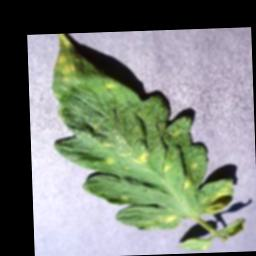Leaf_Mold: (47, 33, 101, 101), (128, 147, 151, 166)
